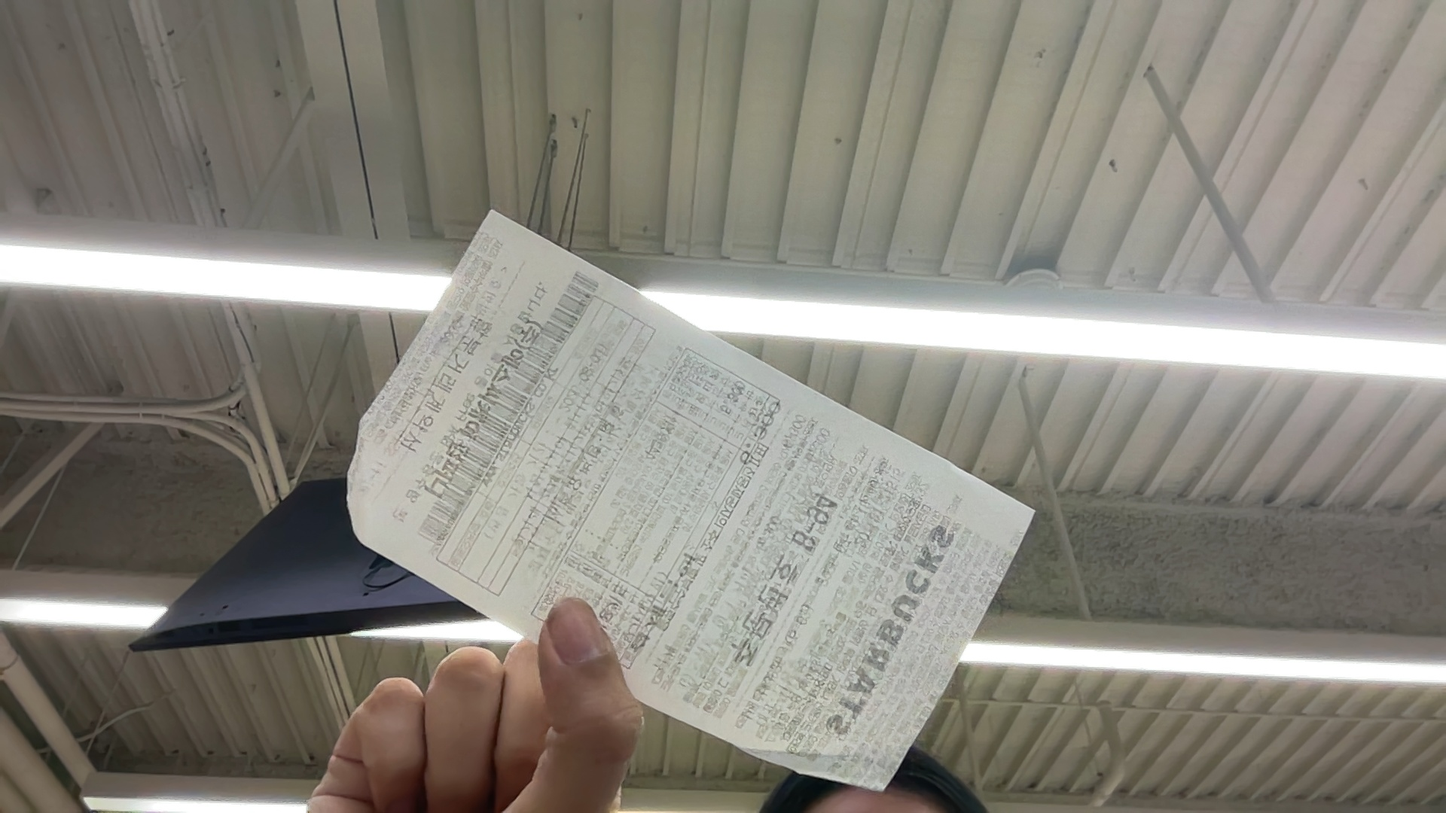Paper: (362, 226, 1047, 751)
